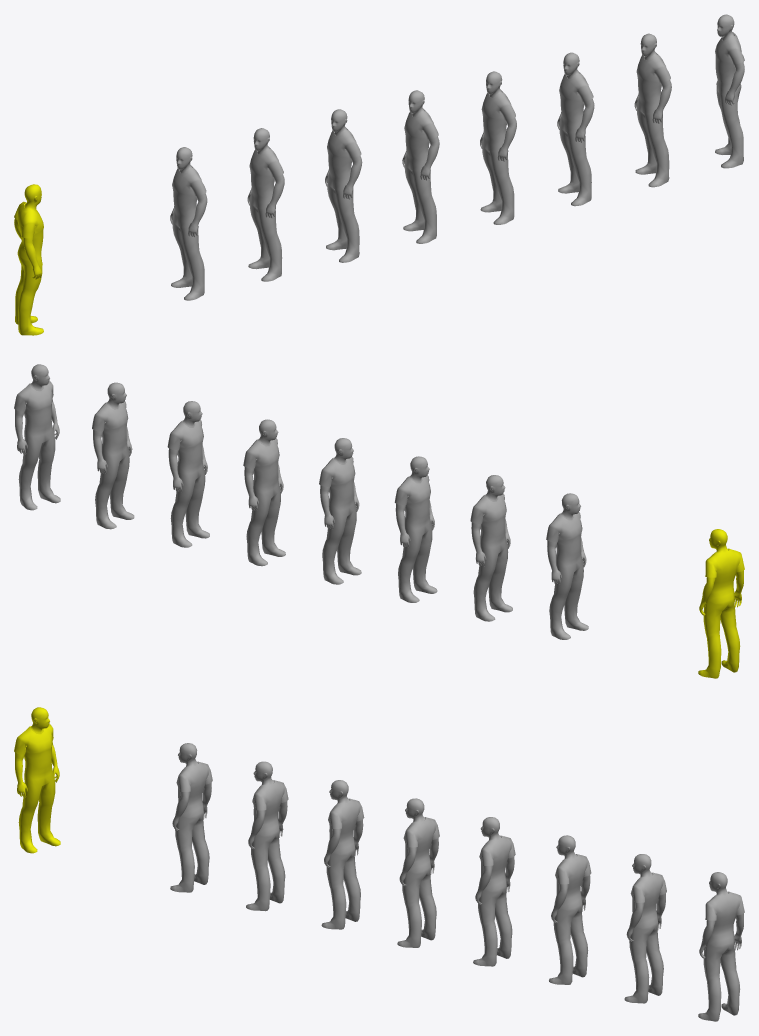
File: char_blockout.fbx
3 views of the same model, one above another, from view 1: azimuth 30°, elevation 25°; view 2: azimuth 150°, elevation 25°; view 3: azimuth 330°, elevation 25° (orthographic). The views are drawn at different scales.
Parts seen in each view (by area): view 1: man5_5ft10, man5_5ft:man5_5ft1, man5_5ft7, man5_5ft9, man5_5ft8, man5_5ft11, man5_5ft6, man5_5ft5, man5_5ft12; view 2: man5_5ft12, man5_5ft5, man5_5ft8, man5_5ft6, man5_5ft:man5_5ft1, man5_5ft7, man5_5ft9, man5_5ft11, man5_5ft10; view 3: man5_5ft5, man5_5ft12, man5_5ft10, man5_5ft6, man5_5ft7, man5_5ft9, man5_5ft:man5_5ft1, man5_5ft11, man5_5ft8.
Boxes of the visible parts, left/top/right/bottom form: man5_5ft10: left=557, top=52, right=594, bottom=206; man5_5ft:man5_5ft1: left=170, top=147, right=207, bottom=300; man5_5ft7: left=325, top=109, right=362, bottom=262; man5_5ft9: left=480, top=71, right=516, bottom=224; man5_5ft8: left=402, top=90, right=439, bottom=243; man5_5ft11: left=634, top=33, right=671, bottom=187; man5_5ft6: left=247, top=128, right=284, bottom=281; man5_5ft5: left=14, top=184, right=43, bottom=335; man5_5ft12: left=715, top=14, right=744, bottom=168; man5_5ft12: left=14, top=364, right=60, bottom=510; man5_5ft5: left=698, top=529, right=744, bottom=678; man5_5ft8: left=319, top=438, right=361, bottom=584; man5_5ft6: left=470, top=475, right=512, bottom=621; man5_5ft:man5_5ft1: left=546, top=493, right=588, bottom=639; man5_5ft7: left=394, top=456, right=437, bottom=602; man5_5ft9: left=243, top=419, right=285, bottom=566; man5_5ft11: left=92, top=382, right=134, bottom=529; man5_5ft10: left=167, top=401, right=209, bottom=547; man5_5ft5: left=14, top=707, right=60, bottom=853; man5_5ft12: left=698, top=872, right=744, bottom=1021; man5_5ft10: left=549, top=835, right=591, bottom=984; man5_5ft6: left=246, top=761, right=288, bottom=911; man5_5ft7: left=321, top=780, right=364, bottom=929; man5_5ft9: left=473, top=817, right=515, bottom=966; man5_5ft:man5_5ft1: left=170, top=743, right=212, bottom=892; man5_5ft11: left=624, top=854, right=666, bottom=1003; man5_5ft8: left=397, top=798, right=439, bottom=947.
Bounding box in the file's own units: 887 × 168 × 58.25.
